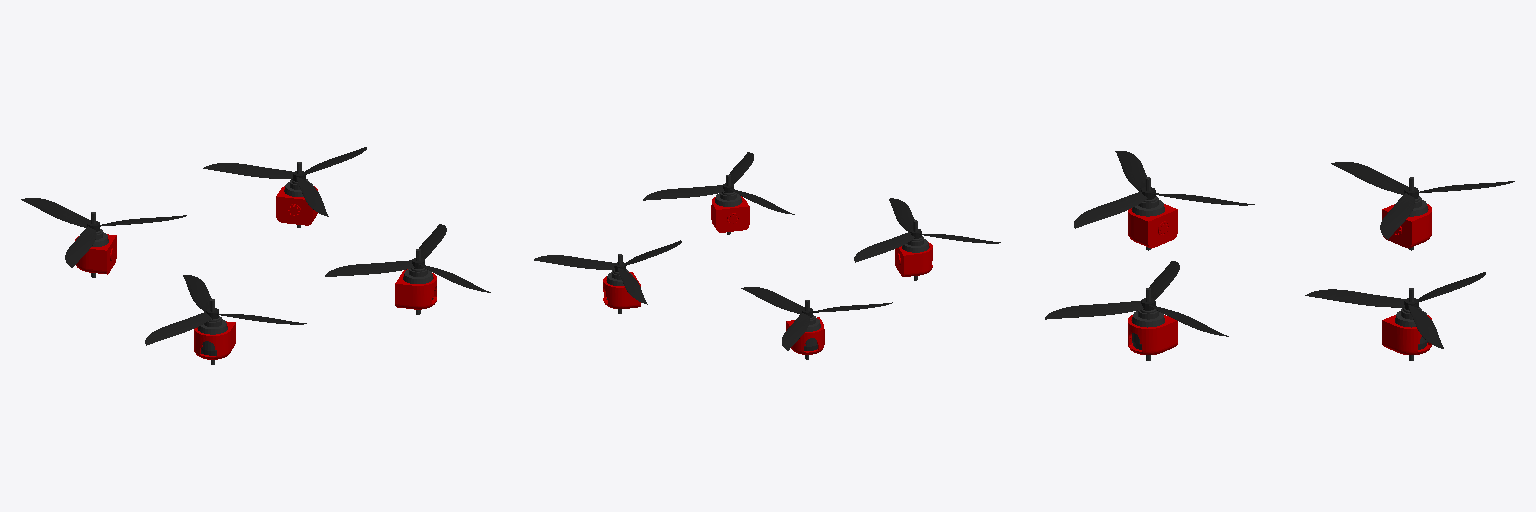
robot.urdf — beetle:
<?xml version="1.0" ?>
<!-- =================================================================================== -->
<!-- |    This document was autogenerated by xacro from robots/beetle-art.urdf.xacro   | -->
<!-- |    EDITING THIS FILE BY HAND IS NOT RECOMMENDED                                 | -->
<!-- =================================================================================== -->
<robot name="beetle">
  <!-- general attribute -->
  <baselink name="fc"/>
  <thrust_link name="thrust"/>
  <m_f_rate value="-0.0165"/>
  <!-- [N] -->
  
    ## dummy
    
  <link name="root">
    <inertial>
      <origin rpy="0 0 0" xyz="0 0 0"/>
      <mass value="0.00001"/>
      <inertia ixx="0.000001" ixy="0.0" ixz="0.0" iyy="0.000001" iyz="0.0" izz="0.000001"/>
    </inertial>
  </link>
  <joint name="root_joint" type="fixed">
    <parent link="root"/>
    <child link="base_link"/>
    <origin rpy="0 0 0" xyz="0 0 0"/>
    <axis xyz="0 0 1"/>
  </joint>
  

    ## link
    
  <link name="base_link">
    <inertial>
      <origin rpy="0 0 0" xyz="0.00000948 0.00026235 0.07729451"/>
      <mass value="2.06160384"/>
      <inertia ixx="0.02302471" ixy="-0.00000599" ixz="0.00008637" iyy="0.02236968" iyz="0.00005997" izz="0.03673293"/>
    </inertial>
    <visual>
      <origin rpy="0 0 0" xyz="0 0 0"/>
      <geometry>
        <mesh filename="package://beetle/mesh/base_link_beetle_art.dae"/>
      </geometry>
    </visual>
    <collision>
      <origin rpy="0 0 0" xyz="0 0 0.1205"/>
      <geometry>
        <box size="0.52 0.52 0.241"/>
      </geometry>
    </collision>
  </link>
  <gazebo reference="base_link">
    <dampingFactor>0.00</dampingFactor>
  </gazebo>
  <link name="fc">
    <inertial>
      <origin rpy="0 0 0" xyz="0 0 0"/>
      <mass value="0.00001"/>
      <inertia ixx="0.000001" ixy="0.0" ixz="0.0" iyy="0.000001" iyz="0.0" izz="0.000001"/>
    </inertial>
  </link>
  <joint name="fc_joint" type="fixed">
    <child link="fc"/>
    <parent link="base_link"/>
    <origin rpy="0 0 0" xyz="-0.0175 -0.0015 0.12947"/>
      # should be aligned with the position of IMU
      
    <axis xyz="0 0 1"/>
  </joint>
  

    ## rotor arm macro
    
  

    ## dummy rotor arms
    
  
      ## link
      
  <link name="rotor_arm1">
    <inertial>
      <origin rpy="0 0 0" xyz="0 0 0"/>
      <mass value="0.0001"/>
      <inertia ixx="0.000001" ixy="0.0" ixz="0.0" iyy="0.0001" iyz="0.0" izz="0.0001"/>
    </inertial>
  </link>
  
      ## joint
      
  <joint name="base_arm_joint1" type="fixed">
    <parent link="base_link"/>
    <child link="rotor_arm1"/>
    <origin rpy="0 0 0.7853981633974483" xyz="0.121218 0.121572 0.1185"/>
    <axis xyz="0 0 1"/>
  </joint>
  
      ## link
      
  <link name="rotor_arm2">
    <inertial>
      <origin rpy="0 0 0" xyz="0 0 0"/>
      <mass value="0.0001"/>
      <inertia ixx="0.000001" ixy="0.0" ixz="0.0" iyy="0.0001" iyz="0.0" izz="0.0001"/>
    </inertial>
  </link>
  
      ## joint
      
  <joint name="base_arm_joint2" type="fixed">
    <parent link="base_link"/>
    <child link="rotor_arm2"/>
    <origin rpy="0 0 2.356194490192345" xyz="-0.121218 0.121572 0.1185"/>
    <axis xyz="0 0 1"/>
  </joint>
  
      ## link
      
  <link name="rotor_arm3">
    <inertial>
      <origin rpy="0 0 0" xyz="0 0 0"/>
      <mass value="0.0001"/>
      <inertia ixx="0.000001" ixy="0.0" ixz="0.0" iyy="0.0001" iyz="0.0" izz="0.0001"/>
    </inertial>
  </link>
  
      ## joint
      
  <joint name="base_arm_joint3" type="fixed">
    <parent link="base_link"/>
    <child link="rotor_arm3"/>
    <origin rpy="0 0 3.9269908169872414" xyz="-0.121218 -0.121572 0.1185"/>
    <axis xyz="0 0 1"/>
  </joint>
  
      ## link
      
  <link name="rotor_arm4">
    <inertial>
      <origin rpy="0 0 0" xyz="0 0 0"/>
      <mass value="0.0001"/>
      <inertia ixx="0.000001" ixy="0.0" ixz="0.0" iyy="0.0001" iyz="0.0" izz="0.0001"/>
    </inertial>
  </link>
  
      ## joint
      
  <joint name="base_arm_joint4" type="fixed">
    <parent link="base_link"/>
    <child link="rotor_arm4"/>
    <origin rpy="0 0 -0.7853981633974483" xyz="0.121218 -0.121572 0.1185"/>
    <axis xyz="0 0 1"/>
  </joint>
  

    ## dummy link for the contact point coordinate
      
  <link name="contact_point">
    <inertial>
      <origin rpy="0 0 0" xyz="0 0 0"/>
      <mass value="0.0001"/>
      <inertia ixx="0.000001" ixy="0.0" ixz="0.0" iyy="0.0001" iyz="0.0" izz="0.0001"/>
    </inertial>
  </link>
  <joint name="cp_base_joint" type="fixed">
    <parent link="base_link"/>
    <child link="contact_point"/>
    <origin rpy="0 0 0" xyz="0.26 0 0"/>
    <axis xyz="0 0 1"/>
  </joint>
  <gazebo reference="linkbase_link">
    <mu1>0.1</mu1>
    <mu2>0.1</mu2>
  </gazebo>
  
    ## link
    #### rotor parent link (virtual) ####
    
  <link name="gimbal_link1">
    <inertial>
      <origin rpy="0 0 0" xyz="0.02239457 0.0 0.00766902"/>
      <mass value="0.15429"/>
      <inertia ixx="0.00006797" ixy="0.00000001" ixz="0.00000122" iyy="0.00006788" iyz="0.00000" izz="0.00007058"/>
    </inertial>
    <collision>
      <origin rpy="0 0 0" xyz="0.0 0 0"/>
      <geometry>
        <cylinder length="0.033" radius="0.02"/>
      </geometry>
    </collision>
    <visual>
      <origin rpy="0 0 0" xyz="0 0 0"/>
      <geometry>
        <mesh filename="package://beetle/mesh/rotor_module.dae"/>
      </geometry>
    </visual>
  </link>
  <gazebo reference="gimbal_link1">
    <dampingFactor>0.00</dampingFactor>
  </gazebo>
  

    ## rotor parent link (virtual)
    
  <link name="rotor_parent1">
    <inertial>
      <origin rpy="0 0 0" xyz="0 0 0"/>
      <mass value="0.00001"/>
      <inertia ixx="0.000001" ixy="0.0" ixz="0.0" iyy="0.000001" iyz="0.0" izz="0.000001"/>
    </inertial>
  </link>
  

    ## thrust link (virtual)
    
  <link name="thrust1">
    <inertial>
      <origin rpy="0 0 0" xyz="0 0 0"/>
      <mass value="0.005"/>
      <inertia ixx="0.001" ixy="0.0" ixz="0.0" iyy="0.001" iyz="0.0" izz="0.001"/>
    </inertial>
  </link>
  <gazebo reference="thrust1">
    <dampingFactor>0.00</dampingFactor>
  </gazebo>
  

    #### joints ####

    #### gimbal joints ####
    
  <joint name="gimbal1" type="revolute">
    <limit effort="6.6" lower="-1.57" upper="1.57" velocity="3.0"/>
    <parent link="rotor_arm1"/>
    <child link="gimbal_link1"/>
    <origin rpy="0 0 0" xyz="0 0 0"/>
    <axis xyz="1 0 0"/>
    <dynamics damping="0.8" friction="0.0"/>
  </joint>
  <transmission name="joint_tran1">
    1.570796
      
    <type>transmission_interface/SimpleTransmission</type>
    <joint name="gimbal1">
      <hardwareInterface>hardware_interface/EffortJointInterface</hardwareInterface>
    </joint>
    <actuator name="servo1">
      <hardwareInterface>hardware_interface/EffortJointInterface</hardwareInterface>
      <mechanicalReduction>1</mechanicalReduction>
    </actuator>
  </transmission>
  
    #### rotor parent link joint (virtual) ####
    
  <joint name="rotor_parent_link_joint1" type="fixed">
    <parent link="gimbal_link1"/>
    <child link="rotor_parent1"/>
    <origin rpy="0 0 0" xyz="0.02335 0.0 0.0"/>
    <axis xyz="0 0 1"/>
  </joint>
  

    #### rotor joint (virtual) ####
    
  <joint name="rotor1" type="continuous">
    <limit effort="100.0" lower="1.0" upper="30.0" velocity="0.5"/>
    <parent link="rotor_parent1"/>
    <child link="thrust1"/>
    <origin rpy="0 0 0" xyz="0 0 0"/>
    <axis xyz="0 0 1"/>
  </joint>
  <transmission name="rotor_tran1">
    <type>transmission_interface/SimpleTransmission</type>
    <joint name="rotor1">
      <hardwareInterface>RotorInterface</hardwareInterface>
    </joint>
    <actuator name="rotor_actuator1">
      <hardwareInterface>RotorInterface</hardwareInterface>
      <mechanicalReduction>1</mechanicalReduction>
    </actuator>
  </transmission>
  
    ## link
    #### rotor parent link (virtual) ####
    
  <link name="gimbal_link2">
    <inertial>
      <origin rpy="0 0 0" xyz="0.02239457 0.0 0.00766902"/>
      <mass value="0.15429"/>
      <inertia ixx="0.00006797" ixy="0.00000001" ixz="0.00000122" iyy="0.00006788" iyz="0.00000" izz="0.00007058"/>
    </inertial>
    <collision>
      <origin rpy="0 0 0" xyz="0.0 0 0"/>
      <geometry>
        <cylinder length="0.033" radius="0.02"/>
      </geometry>
    </collision>
    <visual>
      <origin rpy="0 0 0" xyz="0 0 0"/>
      <geometry>
        <mesh filename="package://beetle/mesh/rotor_module.dae"/>
      </geometry>
    </visual>
  </link>
  <gazebo reference="gimbal_link2">
    <dampingFactor>0.00</dampingFactor>
  </gazebo>
  

    ## rotor parent link (virtual)
    
  <link name="rotor_parent2">
    <inertial>
      <origin rpy="0 0 0" xyz="0 0 0"/>
      <mass value="0.00001"/>
      <inertia ixx="0.000001" ixy="0.0" ixz="0.0" iyy="0.000001" iyz="0.0" izz="0.000001"/>
    </inertial>
  </link>
  

    ## thrust link (virtual)
    
  <link name="thrust2">
    <inertial>
      <origin rpy="0 0 0" xyz="0 0 0"/>
      <mass value="0.005"/>
      <inertia ixx="0.001" ixy="0.0" ixz="0.0" iyy="0.001" iyz="0.0" izz="0.001"/>
    </inertial>
  </link>
  <gazebo reference="thrust2">
    <dampingFactor>0.00</dampingFactor>
  </gazebo>
  

    #### joints ####

    #### gimbal joints ####
    
  <joint name="gimbal2" type="revolute">
    <limit effort="6.6" lower="-1.57" upper="1.57" velocity="3.0"/>
    <parent link="rotor_arm2"/>
    <child link="gimbal_link2"/>
    <origin rpy="0 0 0" xyz="0 0 0"/>
    <axis xyz="1 0 0"/>
    <dynamics damping="0.8" friction="0.0"/>
  </joint>
  <transmission name="joint_tran2">
    1.570796
      
    <type>transmission_interface/SimpleTransmission</type>
    <joint name="gimbal2">
      <hardwareInterface>hardware_interface/EffortJointInterface</hardwareInterface>
    </joint>
    <actuator name="servo2">
      <hardwareInterface>hardware_interface/EffortJointInterface</hardwareInterface>
      <mechanicalReduction>1</mechanicalReduction>
    </actuator>
  </transmission>
  
    #### rotor parent link joint (virtual) ####
    
  <joint name="rotor_parent_link_joint2" type="fixed">
    <parent link="gimbal_link2"/>
    <child link="rotor_parent2"/>
    <origin rpy="0 0 0" xyz="0.02335 0.0 0.0"/>
    <axis xyz="0 0 -1"/>
  </joint>
  

    #### rotor joint (virtual) ####
    
  <joint name="rotor2" type="continuous">
    <limit effort="100.0" lower="1.0" upper="30.0" velocity="0.5"/>
    <parent link="rotor_parent2"/>
    <child link="thrust2"/>
    <origin rpy="0 0 0" xyz="0 0 0"/>
    <axis xyz="0 0 -1"/>
  </joint>
  <transmission name="rotor_tran2">
    <type>transmission_interface/SimpleTransmission</type>
    <joint name="rotor2">
      <hardwareInterface>RotorInterface</hardwareInterface>
    </joint>
    <actuator name="rotor_actuator2">
      <hardwareInterface>RotorInterface</hardwareInterface>
      <mechanicalReduction>1</mechanicalReduction>
    </actuator>
  </transmission>
  
    ## link
    #### rotor parent link (virtual) ####
    
  <link name="gimbal_link3">
    <inertial>
      <origin rpy="0 0 0" xyz="0.02239457 0.0 0.00766902"/>
      <mass value="0.15429"/>
      <inertia ixx="0.00006797" ixy="0.00000001" ixz="0.00000122" iyy="0.00006788" iyz="0.00000" izz="0.00007058"/>
    </inertial>
    <collision>
      <origin rpy="0 0 0" xyz="0.0 0 0"/>
      <geometry>
        <cylinder length="0.033" radius="0.02"/>
      </geometry>
    </collision>
    <visual>
      <origin rpy="0 0 0" xyz="0 0 0"/>
      <geometry>
        <mesh filename="package://beetle/mesh/rotor_module.dae"/>
      </geometry>
    </visual>
  </link>
  <gazebo reference="gimbal_link3">
    <dampingFactor>0.00</dampingFactor>
  </gazebo>
  

    ## rotor parent link (virtual)
    
  <link name="rotor_parent3">
    <inertial>
      <origin rpy="0 0 0" xyz="0 0 0"/>
      <mass value="0.00001"/>
      <inertia ixx="0.000001" ixy="0.0" ixz="0.0" iyy="0.000001" iyz="0.0" izz="0.000001"/>
    </inertial>
  </link>
  

    ## thrust link (virtual)
    
  <link name="thrust3">
    <inertial>
      <origin rpy="0 0 0" xyz="0 0 0"/>
      <mass value="0.005"/>
      <inertia ixx="0.001" ixy="0.0" ixz="0.0" iyy="0.001" iyz="0.0" izz="0.001"/>
    </inertial>
  </link>
  <gazebo reference="thrust3">
    <dampingFactor>0.00</dampingFactor>
  </gazebo>
  

    #### joints ####

    #### gimbal joints ####
    
  <joint name="gimbal3" type="revolute">
    <limit effort="6.6" lower="-1.57" upper="1.57" velocity="3.0"/>
    <parent link="rotor_arm3"/>
    <child link="gimbal_link3"/>
    <origin rpy="0 0 0" xyz="0 0 0"/>
    <axis xyz="1 0 0"/>
    <dynamics damping="0.8" friction="0.0"/>
  </joint>
  <transmission name="joint_tran3">
    1.570796
      
    <type>transmission_interface/SimpleTransmission</type>
    <joint name="gimbal3">
      <hardwareInterface>hardware_interface/EffortJointInterface</hardwareInterface>
    </joint>
    <actuator name="servo3">
      <hardwareInterface>hardware_interface/EffortJointInterface</hardwareInterface>
      <mechanicalReduction>1</mechanicalReduction>
    </actuator>
  </transmission>
  
    #### rotor parent link joint (virtual) ####
    
  <joint name="rotor_parent_link_joint3" type="fixed">
    <parent link="gimbal_link3"/>
    <child link="rotor_parent3"/>
    <origin rpy="0 0 0" xyz="0.02335 0.0 0.0"/>
    <axis xyz="0 0 1"/>
  </joint>
  

    #### rotor joint (virtual) ####
    
  <joint name="rotor3" type="continuous">
    <limit effort="100.0" lower="1.0" upper="30.0" velocity="0.5"/>
    <parent link="rotor_parent3"/>
    <child link="thrust3"/>
    <origin rpy="0 0 0" xyz="0 0 0"/>
    <axis xyz="0 0 1"/>
  </joint>
  <transmission name="rotor_tran3">
    <type>transmission_interface/SimpleTransmission</type>
    <joint name="rotor3">
      <hardwareInterface>RotorInterface</hardwareInterface>
    </joint>
    <actuator name="rotor_actuator3">
      <hardwareInterface>RotorInterface</hardwareInterface>
      <mechanicalReduction>1</mechanicalReduction>
    </actuator>
  </transmission>
  
    ## link
    #### rotor parent link (virtual) ####
    
  <link name="gimbal_link4">
    <inertial>
      <origin rpy="0 0 0" xyz="0.02239457 0.0 0.00766902"/>
      <mass value="0.15429"/>
      <inertia ixx="0.00006797" ixy="0.00000001" ixz="0.00000122" iyy="0.00006788" iyz="0.00000" izz="0.00007058"/>
    </inertial>
    <collision>
      <origin rpy="0 0 0" xyz="0.0 0 0"/>
      <geometry>
        <cylinder length="0.033" radius="0.02"/>
      </geometry>
    </collision>
    <visual>
      <origin rpy="0 0 0" xyz="0 0 0"/>
      <geometry>
        <mesh filename="package://beetle/mesh/rotor_module.dae"/>
      </geometry>
    </visual>
  </link>
  <gazebo reference="gimbal_link4">
    <dampingFactor>0.00</dampingFactor>
  </gazebo>
  

    ## rotor parent link (virtual)
    
  <link name="rotor_parent4">
    <inertial>
      <origin rpy="0 0 0" xyz="0 0 0"/>
      <mass value="0.00001"/>
      <inertia ixx="0.000001" ixy="0.0" ixz="0.0" iyy="0.000001" iyz="0.0" izz="0.000001"/>
    </inertial>
  </link>
  

    ## thrust link (virtual)
    
  <link name="thrust4">
    <inertial>
      <origin rpy="0 0 0" xyz="0 0 0"/>
      <mass value="0.005"/>
      <inertia ixx="0.001" ixy="0.0" ixz="0.0" iyy="0.001" iyz="0.0" izz="0.001"/>
    </inertial>
  </link>
  <gazebo reference="thrust4">
    <dampingFactor>0.00</dampingFactor>
  </gazebo>
  

    #### joints ####

    #### gimbal joints ####
    
  <joint name="gimbal4" type="revolute">
    <limit effort="6.6" lower="-1.57" upper="1.57" velocity="3.0"/>
    <parent link="rotor_arm4"/>
    <child link="gimbal_link4"/>
    <origin rpy="0 0 0" xyz="0 0 0"/>
    <axis xyz="1 0 0"/>
    <dynamics damping="0.8" friction="0.0"/>
  </joint>
  <transmission name="joint_tran4">
    1.570796
      
    <type>transmission_interface/SimpleTransmission</type>
    <joint name="gimbal4">
      <hardwareInterface>hardware_interface/EffortJointInterface</hardwareInterface>
    </joint>
    <actuator name="servo4">
      <hardwareInterface>hardware_interface/EffortJointInterface</hardwareInterface>
      <mechanicalReduction>1</mechanicalReduction>
    </actuator>
  </transmission>
  
    #### rotor parent link joint (virtual) ####
    
  <joint name="rotor_parent_link_joint4" type="fixed">
    <parent link="gimbal_link4"/>
    <child link="rotor_parent4"/>
    <origin rpy="0 0 0" xyz="0.02335 0.0 0.0"/>
    <axis xyz="0 0 -1"/>
  </joint>
  

    #### rotor joint (virtual) ####
    
  <joint name="rotor4" type="continuous">
    <limit effort="100.0" lower="1.0" upper="30.0" velocity="0.5"/>
    <parent link="rotor_parent4"/>
    <child link="thrust4"/>
    <origin rpy="0 0 0" xyz="0 0 0"/>
    <axis xyz="0 0 -1"/>
  </joint>
  <transmission name="rotor_tran4">
    <type>transmission_interface/SimpleTransmission</type>
    <joint name="rotor4">
      <hardwareInterface>RotorInterface</hardwareInterface>
    </joint>
    <actuator name="rotor_actuator4">
      <hardwareInterface>RotorInterface</hardwareInterface>
      <mechanicalReduction>1</mechanicalReduction>
    </actuator>
  </transmission>
</robot>

--- What the picture shows (computed from the rendered views, not written in the file) ---
The picture shows the robot from 3 angles, left to right: view 1: azimuth 30°, elevation 25°; view 2: azimuth 150°, elevation 25°; view 3: azimuth 270°, elevation 25°; orthographic projection.
Robot: beetle — 20 links, 19 joints (4 revolute, 4 continuous, 11 fixed); root link root; default pose: every joint at zero.
Links seen in each view (by area): view 1: gimbal_link4, gimbal_link3, gimbal_link1, gimbal_link2; view 2: gimbal_link4, gimbal_link3, gimbal_link1, gimbal_link2; view 3: gimbal_link3, gimbal_link4, gimbal_link1, gimbal_link2.
Link boxes in pixels (x1=…): gimbal_link4: x1=325, y1=224, x2=490, y2=314; gimbal_link3: x1=145, y1=275, x2=306, y2=364; gimbal_link1: x1=203, y1=147, x2=366, y2=227; gimbal_link2: x1=21, y1=198, x2=186, y2=277; gimbal_link4: x1=643, y1=152, x2=794, y2=234; gimbal_link3: x1=854, y1=198, x2=1000, y2=280; gimbal_link1: x1=534, y1=240, x2=681, y2=313; gimbal_link2: x1=741, y1=287, x2=892, y2=359; gimbal_link3: x1=1074, y1=151, x2=1254, y2=250; gimbal_link4: x1=1045, y1=261, x2=1228, y2=360; gimbal_link1: x1=1305, y1=272, x2=1485, y2=360; gimbal_link2: x1=1331, y1=162, x2=1514, y2=250.
Bounding box of the posed robot: 0.4936 × 0.4943 × 0.0825 m (x, y, z).
4 mesh visuals loaded from 2 distinct referenced files (1 Collada DAE); not drawn: 1 (file found but could not be loaded).
